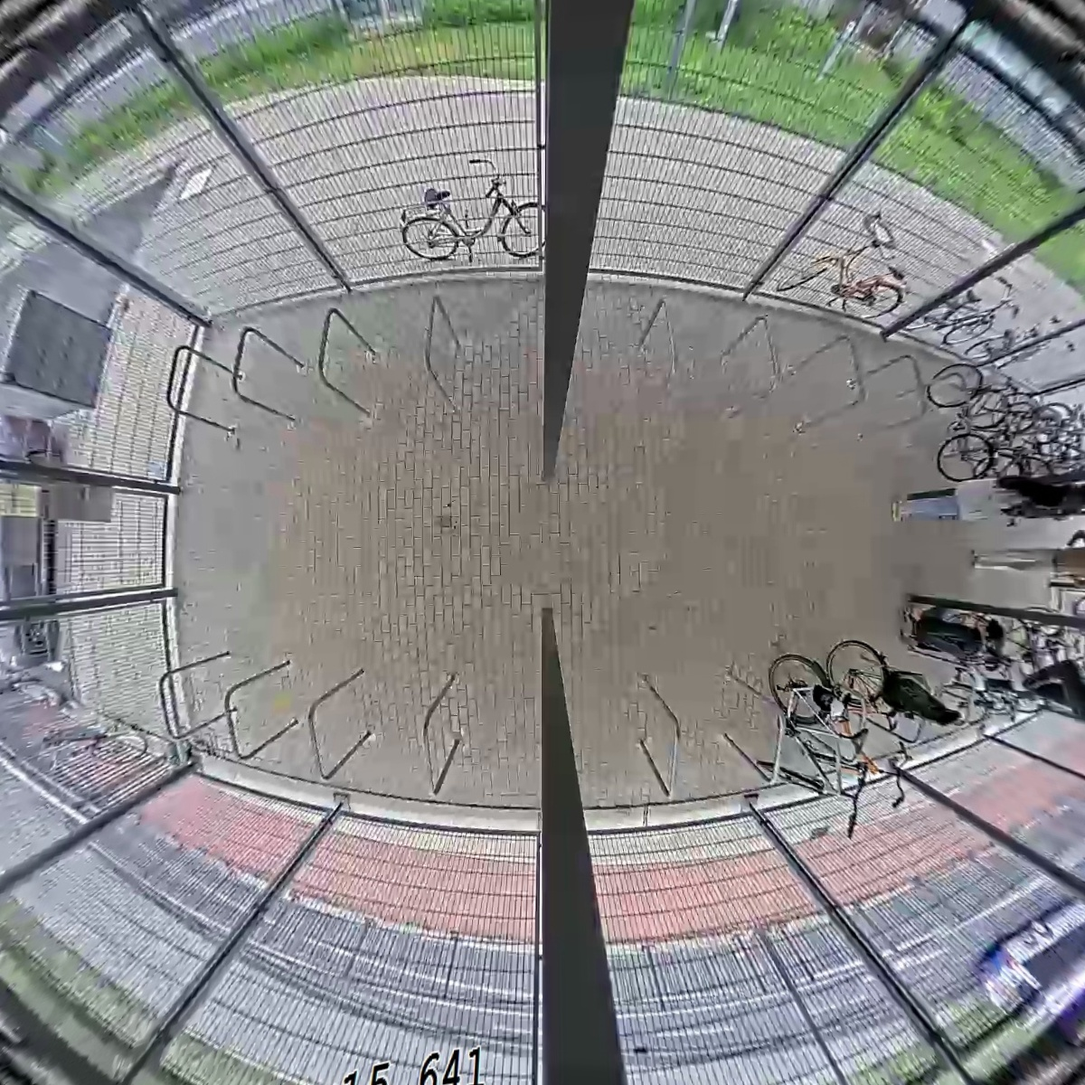bicylce: (754, 649, 872, 810), (811, 635, 909, 796), (923, 352, 1026, 483), (964, 379, 1041, 494), (990, 388, 1073, 490)
saddle: (844, 722, 873, 761), (883, 706, 910, 739), (1042, 638, 1062, 658), (996, 419, 1012, 443), (1059, 441, 1073, 467), (1026, 653, 1042, 671), (1072, 637, 1083, 656)
